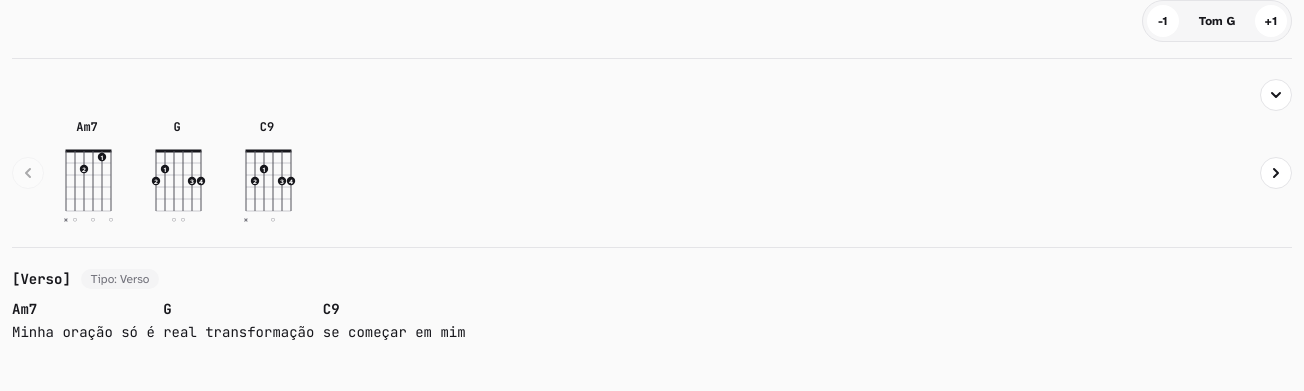
Scenario: ChordChartPreview › expands chord diagrams into a board view from the top-right control
The image size is (1304, 391).
What coordinates should you click on to do the following:
click the button named "expandir diagramas de acordes"
I would click on:
 (1276, 95)
Its box is [1260, 79, 1292, 111].
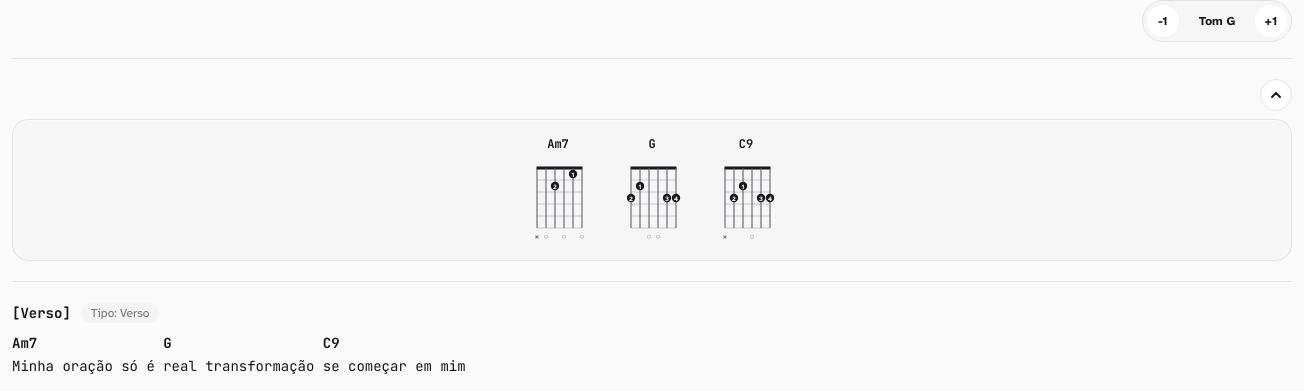
Check: the button named "recolher diagramas de acordes" is expanded, box [1260, 79, 1292, 111]
